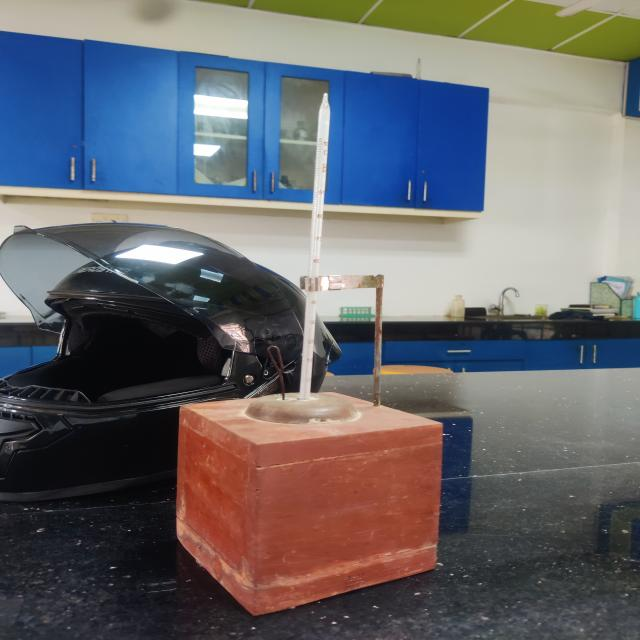Calorimeter: (165, 76, 471, 631)
